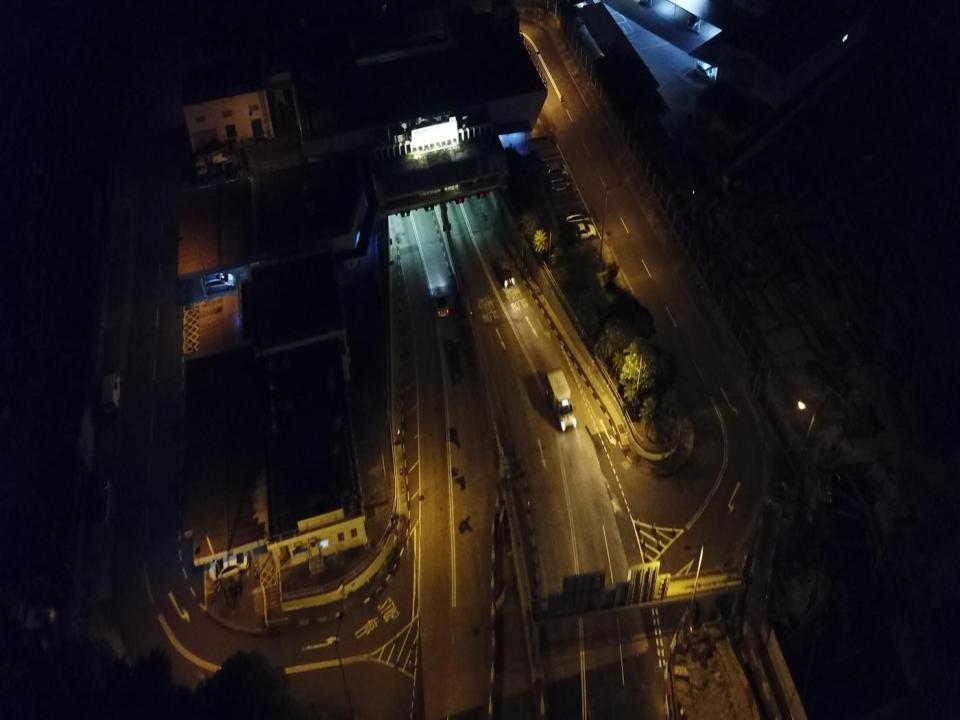car: (210, 547, 250, 581), (93, 480, 111, 524), (494, 258, 515, 286), (686, 8, 708, 29), (694, 61, 716, 80), (549, 176, 571, 192), (434, 292, 448, 317), (547, 163, 569, 176), (548, 171, 569, 184)
truck: (195, 139, 246, 181), (547, 370, 576, 429)
van: (100, 372, 120, 412), (203, 272, 235, 294), (565, 208, 590, 228), (570, 223, 596, 241)
